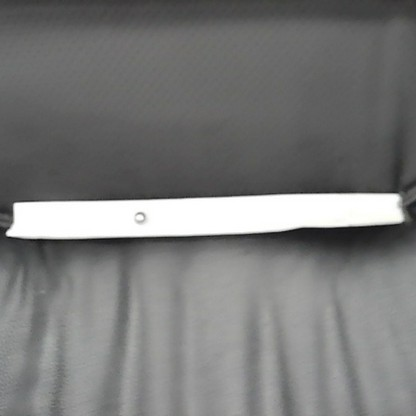ironball: (129, 207, 148, 227)
